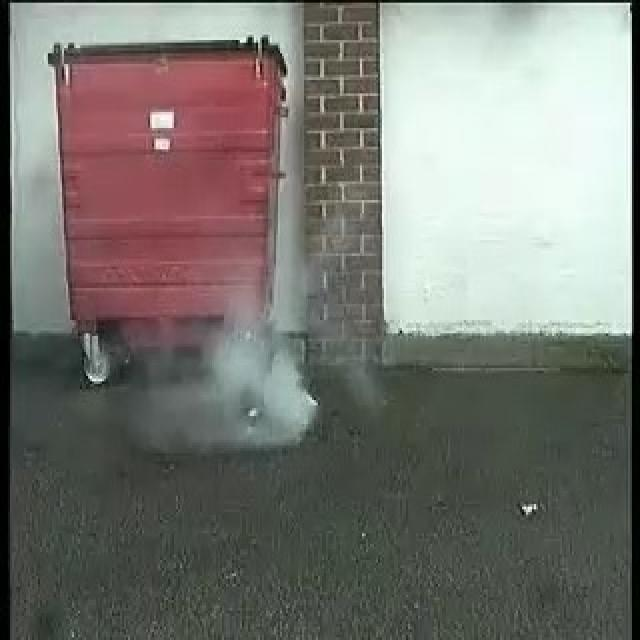smoke: (166, 284, 337, 450)
